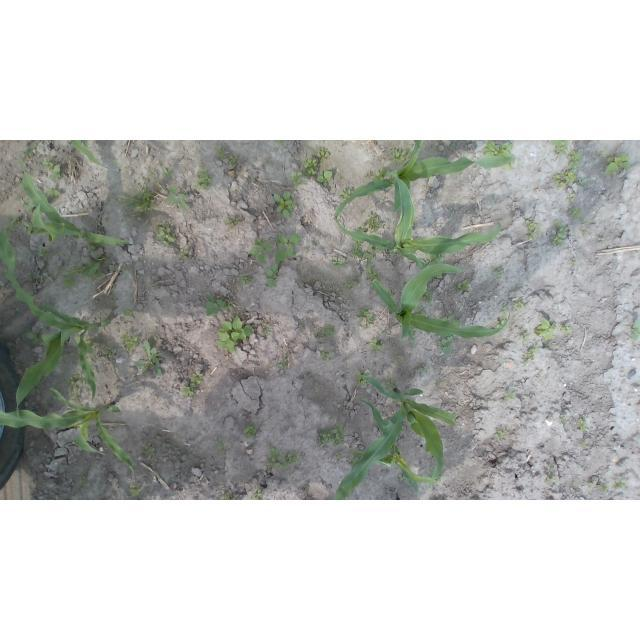Maize: (2, 210, 111, 418), (333, 376, 457, 501), (335, 171, 501, 262), (337, 140, 514, 216), (2, 388, 138, 478), (21, 145, 129, 250), (370, 263, 511, 339), (363, 400, 437, 493), (72, 141, 111, 172)
Weeds: (266, 232, 300, 286), (218, 315, 256, 351), (135, 341, 168, 377), (121, 190, 152, 213), (70, 262, 105, 279), (481, 141, 514, 159), (167, 187, 190, 212), (603, 153, 629, 175), (204, 293, 227, 317), (274, 192, 294, 219), (251, 238, 271, 263), (318, 424, 343, 444), (536, 317, 556, 341), (551, 170, 575, 189), (156, 221, 175, 245), (281, 452, 303, 472), (553, 219, 568, 246), (567, 193, 582, 219), (522, 343, 538, 367), (21, 145, 37, 168), (196, 168, 213, 189), (368, 211, 385, 231), (390, 146, 411, 162), (363, 246, 381, 264), (626, 319, 640, 342), (122, 333, 138, 352), (568, 152, 584, 169), (525, 219, 540, 237), (306, 157, 321, 175), (440, 336, 455, 354), (292, 171, 306, 190), (514, 297, 531, 312), (442, 315, 463, 327), (348, 448, 363, 464), (366, 263, 379, 281), (269, 446, 278, 471), (553, 140, 570, 153), (421, 255, 443, 265), (316, 170, 333, 182), (352, 240, 364, 257), (545, 468, 558, 483), (495, 430, 510, 443), (217, 145, 230, 160), (372, 170, 389, 181), (181, 385, 195, 398), (315, 146, 329, 159), (357, 305, 369, 320), (370, 338, 385, 350), (97, 347, 113, 358), (225, 216, 241, 227), (324, 326, 338, 338), (459, 278, 473, 290), (331, 256, 346, 267), (49, 166, 61, 179), (358, 371, 369, 385), (503, 387, 513, 402), (339, 189, 351, 201), (262, 322, 274, 334), (245, 425, 258, 436), (561, 325, 573, 336), (319, 350, 331, 361), (423, 290, 433, 303), (190, 374, 204, 383), (252, 490, 264, 500), (493, 267, 505, 277), (615, 481, 630, 489), (367, 315, 377, 326), (502, 306, 510, 319), (356, 224, 369, 232), (48, 189, 58, 199), (164, 169, 175, 178), (242, 277, 253, 286), (346, 279, 355, 290), (220, 492, 232, 500), (42, 161, 54, 169), (70, 375, 79, 385), (386, 380, 396, 389), (278, 363, 288, 372), (578, 419, 586, 430), (40, 250, 51, 258), (598, 485, 610, 492), (495, 320, 505, 328), (562, 416, 570, 426), (79, 474, 86, 485), (218, 440, 227, 448), (66, 278, 74, 287), (396, 355, 405, 363), (181, 247, 188, 257), (131, 488, 139, 496), (364, 170, 372, 178), (419, 308, 428, 315), (229, 156, 236, 164), (124, 310, 133, 316), (578, 178, 587, 184), (338, 452, 344, 461), (523, 333, 528, 343), (599, 236, 605, 243), (582, 442, 588, 449), (147, 443, 152, 450), (572, 258, 577, 264), (507, 164, 512, 169), (588, 483, 593, 488), (601, 151, 605, 157)
